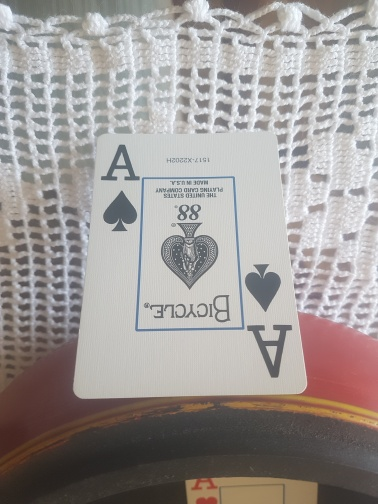ace: (71, 135, 310, 399)
